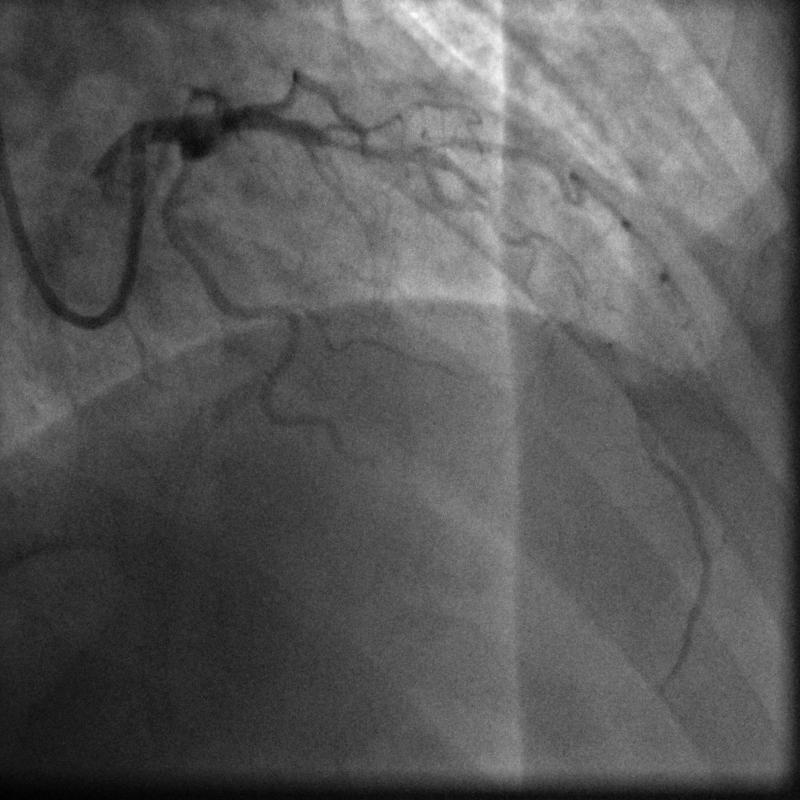Stenosis: (321, 129, 425, 161)
